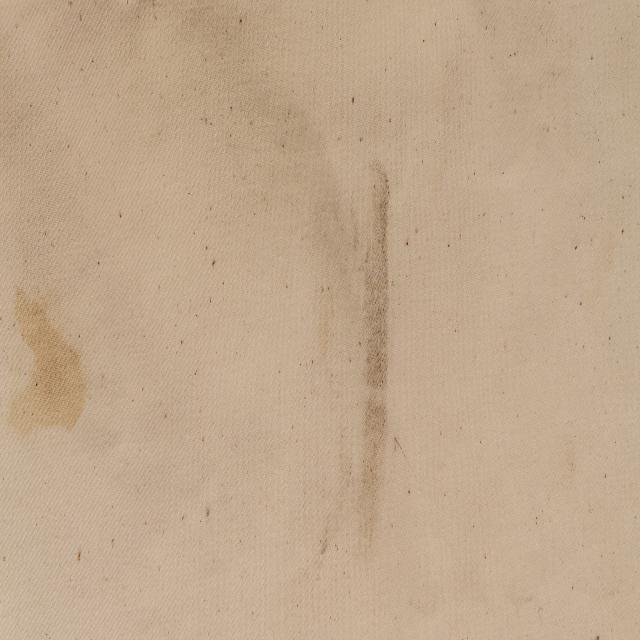taaaches: (322, 126, 413, 578), (0, 258, 94, 465)
